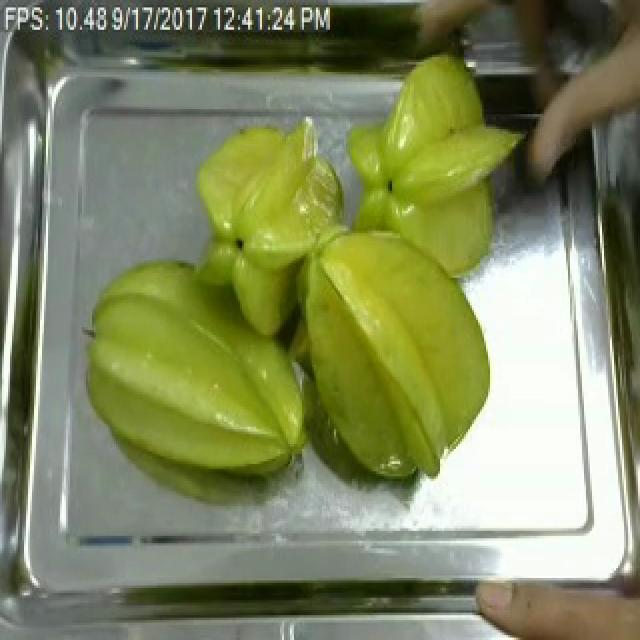fruit: (284, 213, 504, 499), (72, 251, 318, 484), (364, 42, 528, 293), (186, 109, 360, 280), (466, 563, 640, 640)
